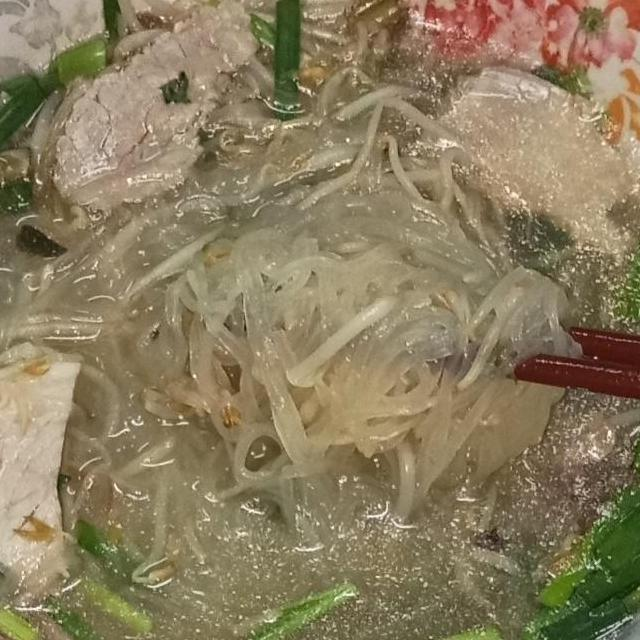banh hu tieu: (12, 78, 514, 566)
hu tieu: (0, 0, 640, 640)
thit heo: (379, 392, 612, 616), (427, 63, 640, 274), (0, 0, 306, 120)
